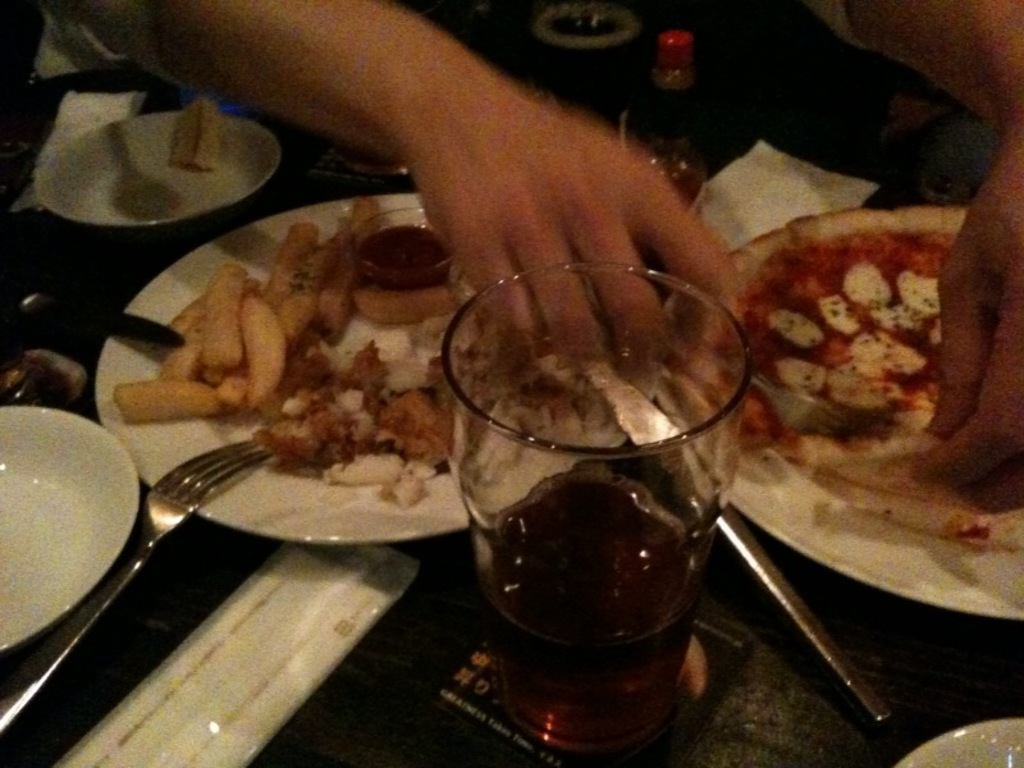Pizza: (725, 190, 981, 506), (247, 316, 467, 500)
